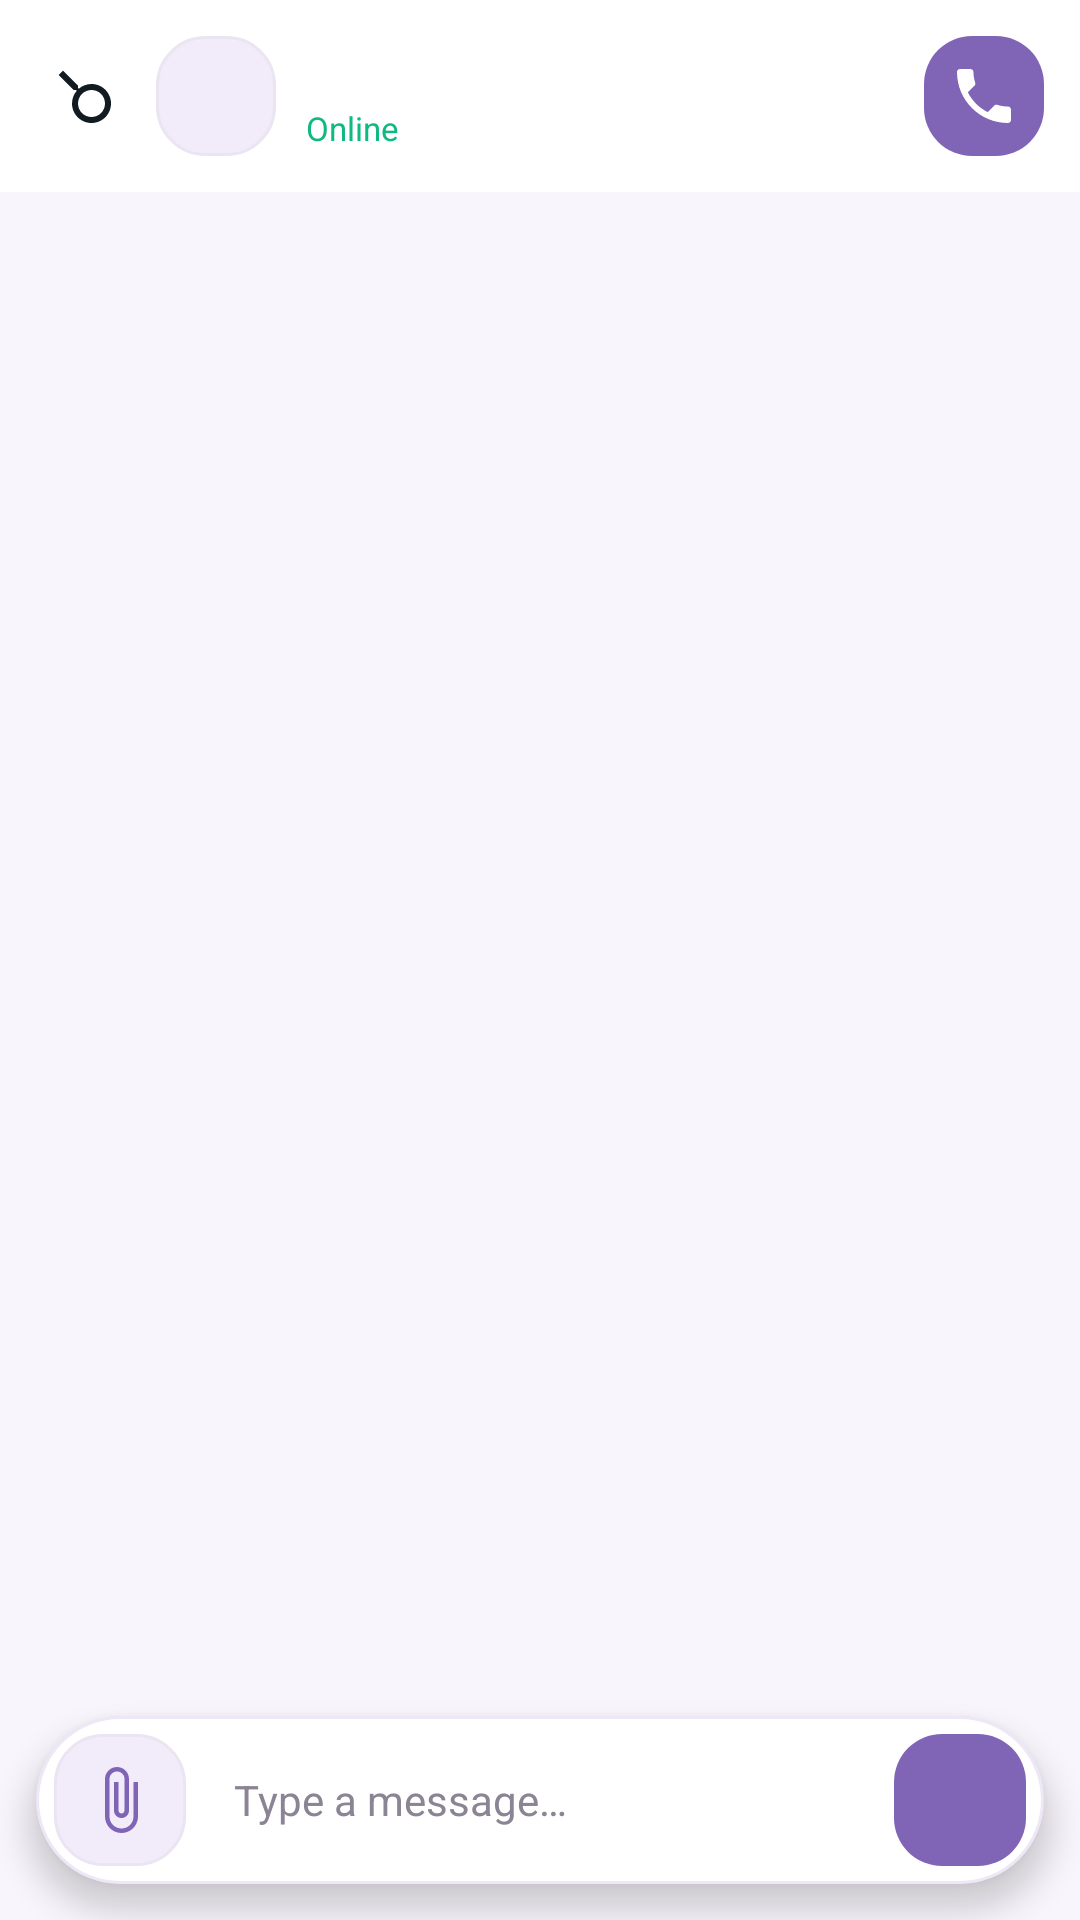

Where to tap for icons on this 1080 x 1920 app screen, as (x,y):
attach: (120,1800)
call: (984,96)
